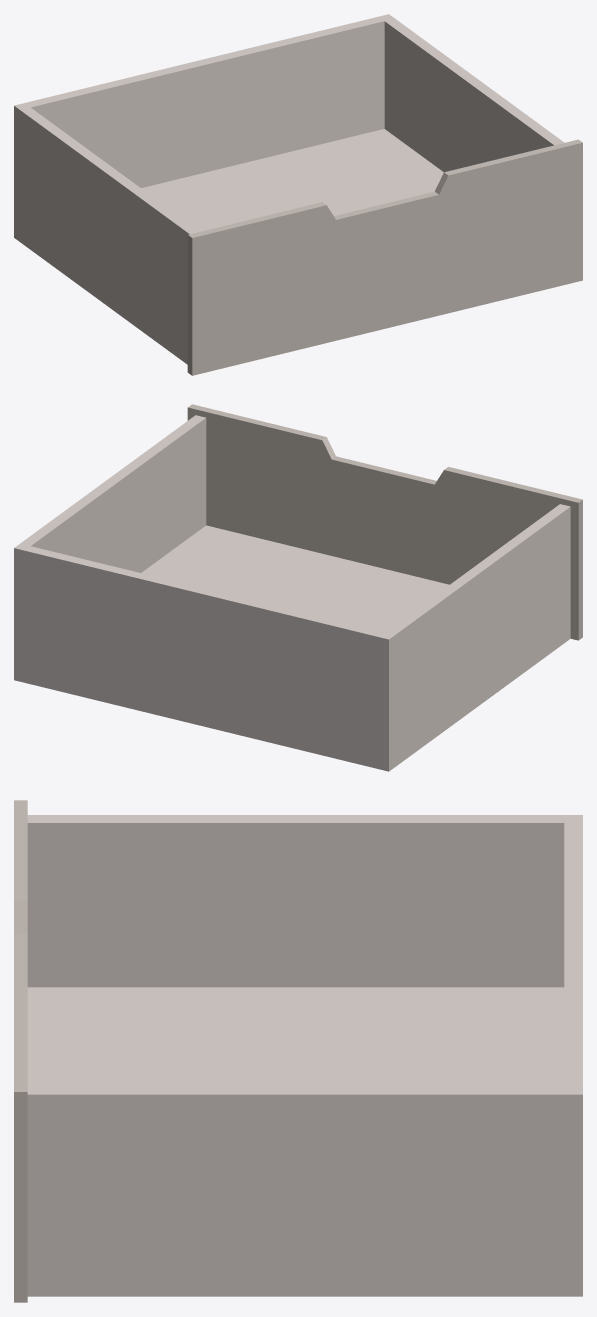
Rendered from Cupboard_16_02.fbx.
3 renders of one model, top to bottom at view 1: azimuth 30°, elevation 25°; view 2: azimuth 150°, elevation 25°; view 3: azimuth 270°, elevation 25°, orthographic. The views are drawn at different scales.
Visible parts, largest first — view 1: Cupboard_16_02; view 2: Cupboard_16_02; view 3: Cupboard_16_02.
Part boxes in pixels (x1,y1,x2,y2): Cupboard_16_02: (14, 14, 582, 375); Cupboard_16_02: (14, 404, 582, 771); Cupboard_16_02: (14, 800, 582, 1302).
Size of the model in its own units: 55.6 by 18.74 by 45.87.
